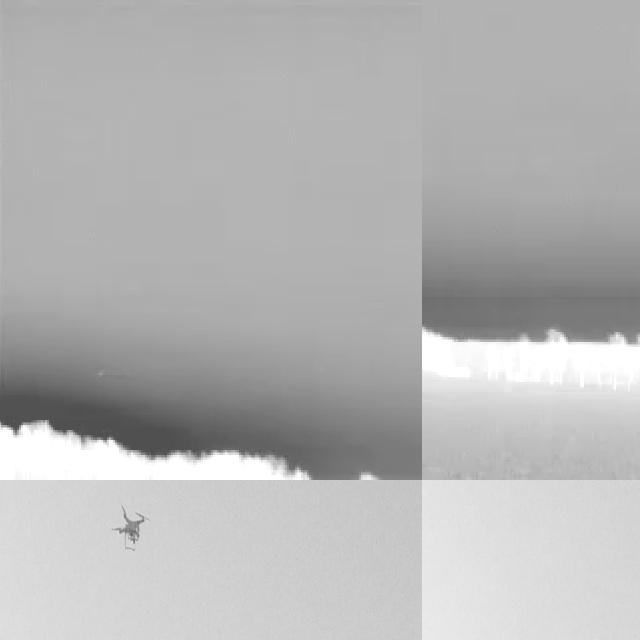0: (90, 365, 120, 393)
drone: (108, 502, 149, 549)
